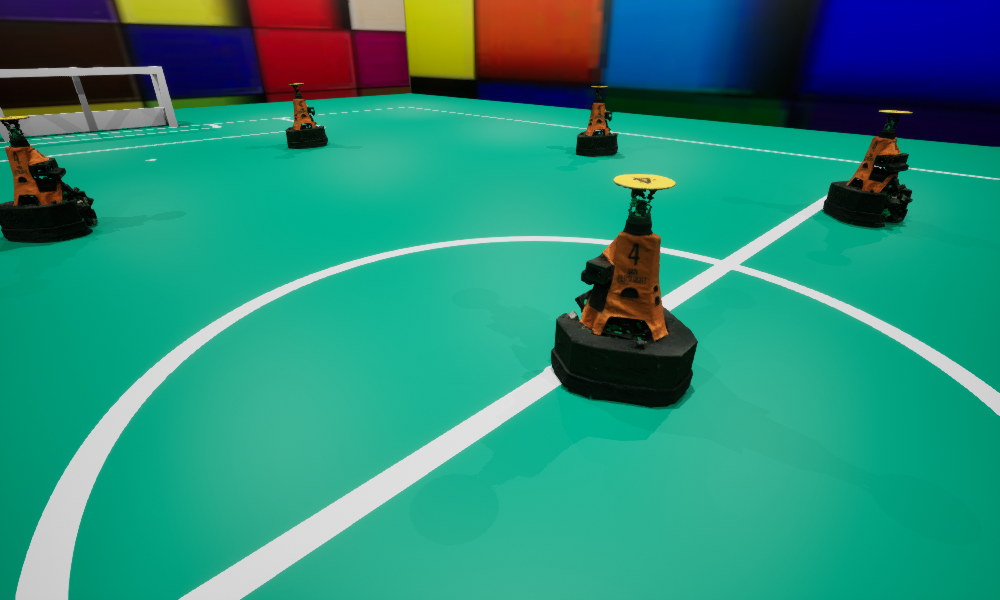0 orange robot TechUnited: (551, 174, 697, 407), (0, 116, 97, 242), (823, 110, 912, 227), (576, 86, 617, 156), (285, 83, 327, 148)
